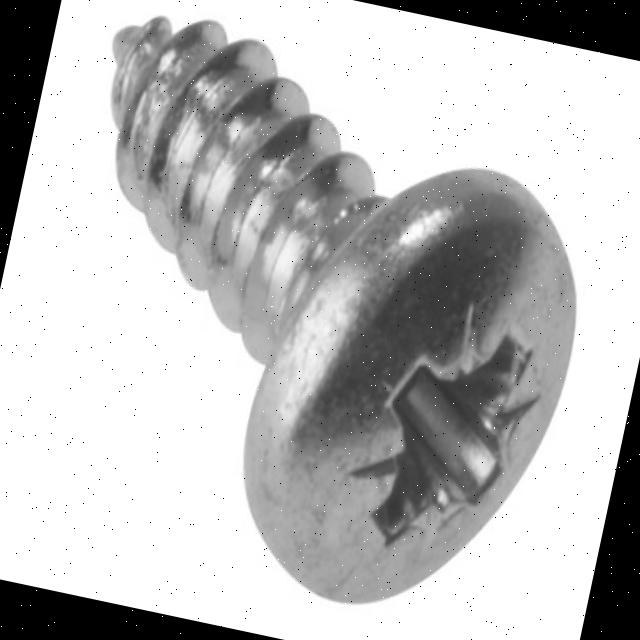Pozidriv: (246, 143, 606, 639)
